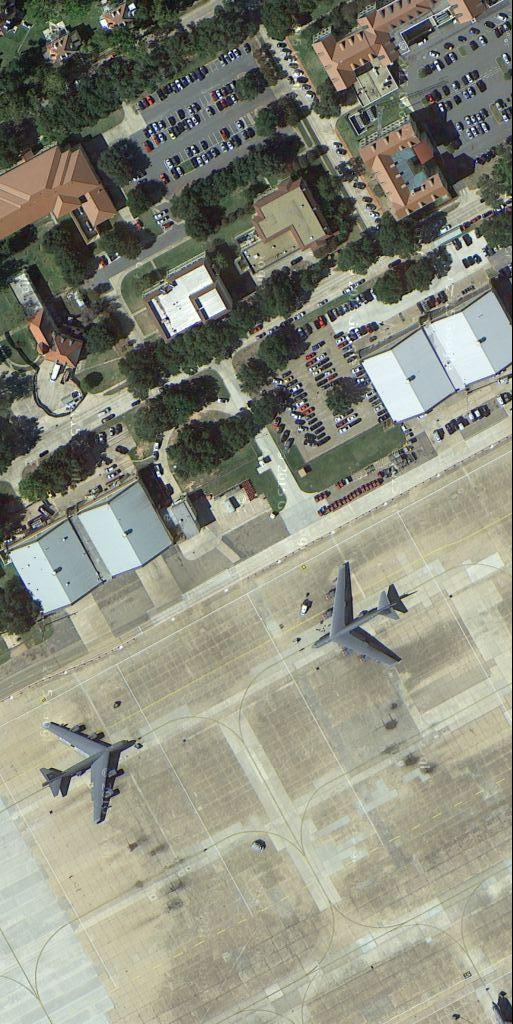B-52: (36, 714, 140, 828), (311, 560, 414, 669)
